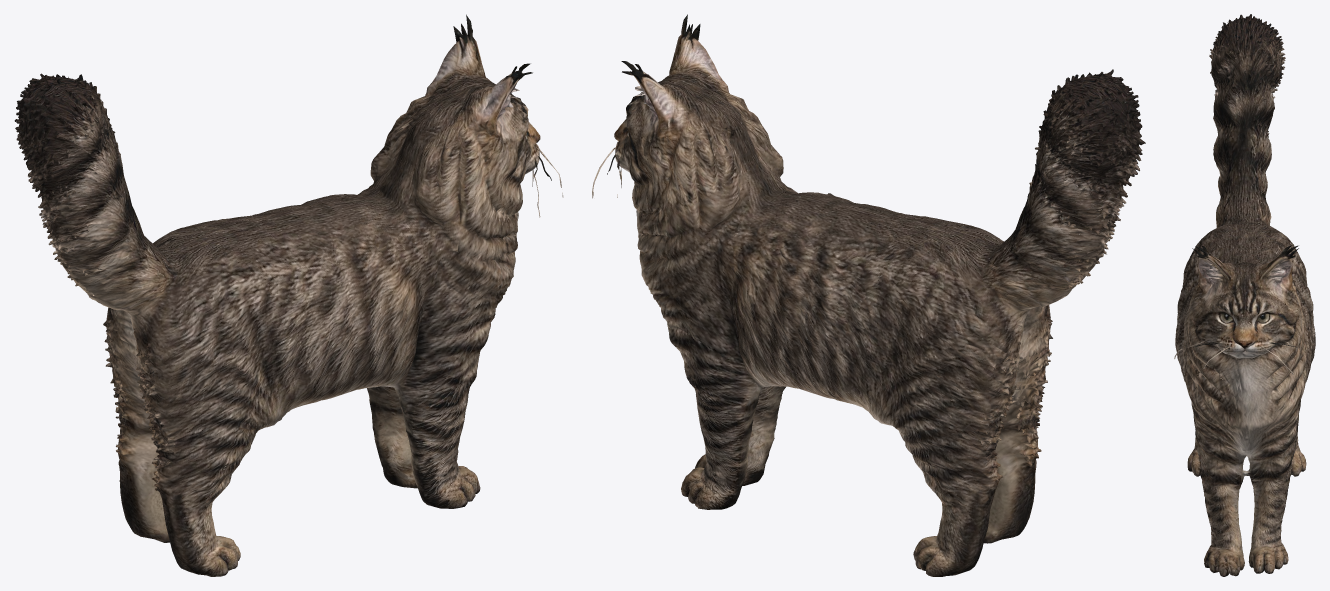
Rendered from ATTLEECAT.glb.
3 views of the same model, side by side, from view 1: azimuth 30°, elevation 25°; view 2: azimuth 150°, elevation 25°; view 3: azimuth 270°, elevation 25° (orthographic). The views are drawn at different scales.
Visible parts, largest first — view 1: tripo_node_d50caa79-645e-46b3-8231-22bbbb42d1b3; view 2: tripo_node_d50caa79-645e-46b3-8231-22bbbb42d1b3; view 3: tripo_node_d50caa79-645e-46b3-8231-22bbbb42d1b3.
Boxes of the visible parts, bbox=[...] form: tripo_node_d50caa79-645e-46b3-8231-22bbbb42d1b3: bbox=[14, 14, 563, 576]; tripo_node_d50caa79-645e-46b3-8231-22bbbb42d1b3: bbox=[592, 14, 1145, 576]; tripo_node_d50caa79-645e-46b3-8231-22bbbb42d1b3: bbox=[1174, 14, 1315, 576].
Size of the model in its own units: 1.08 by 0.9995 by 0.3192.
1 material, 1 textured.
